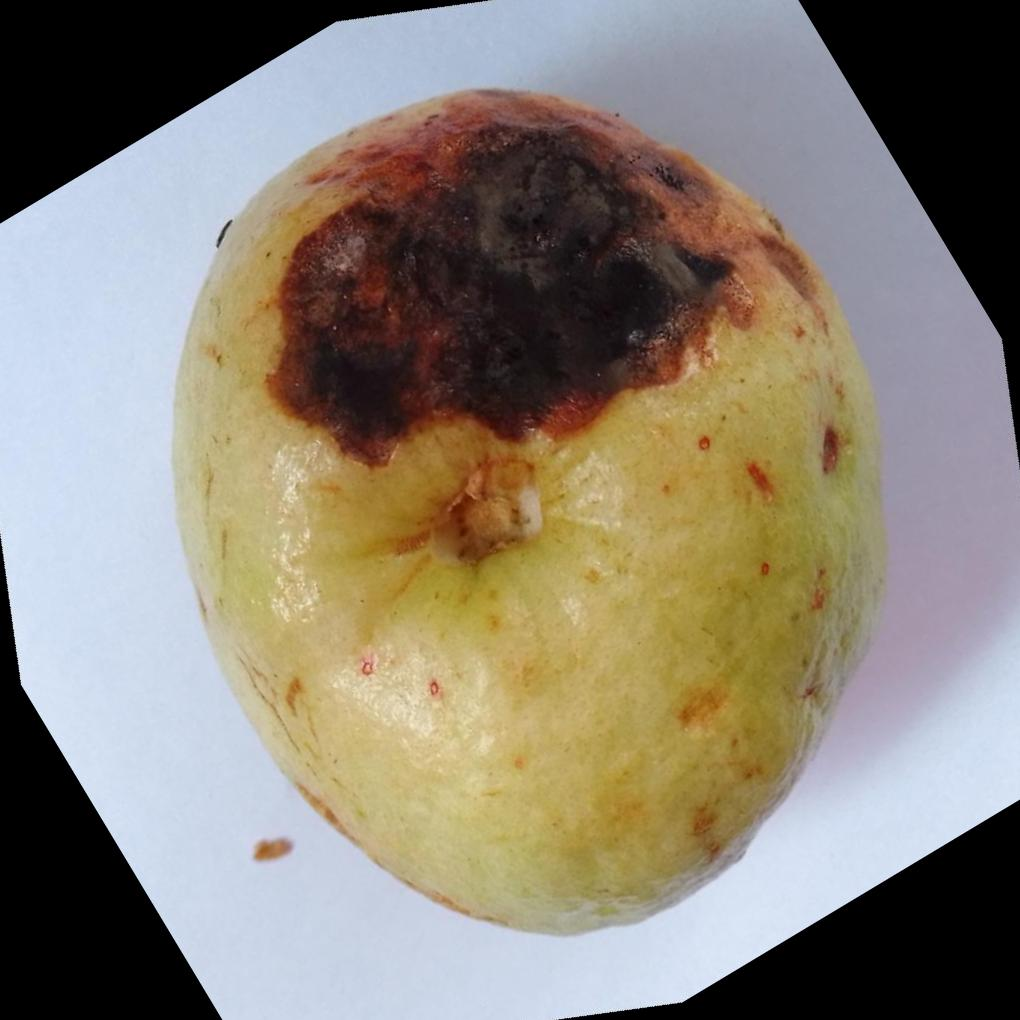FreshOrange: (166, 80, 889, 936)
